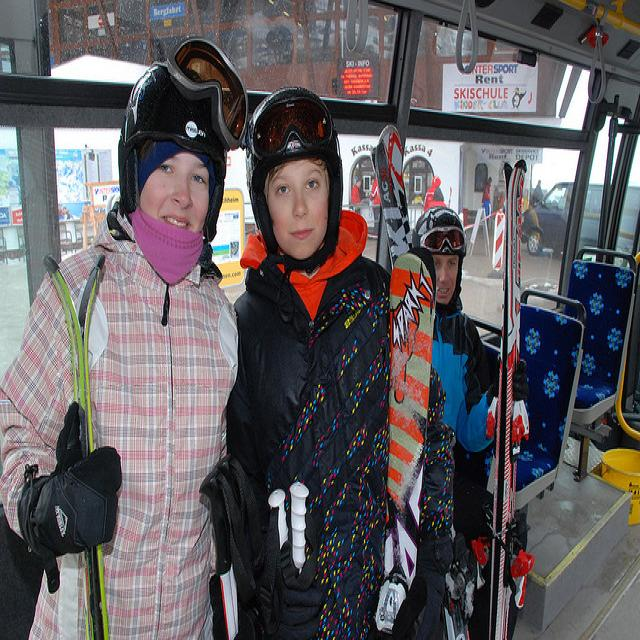Vehicle: (520, 180, 640, 268)
